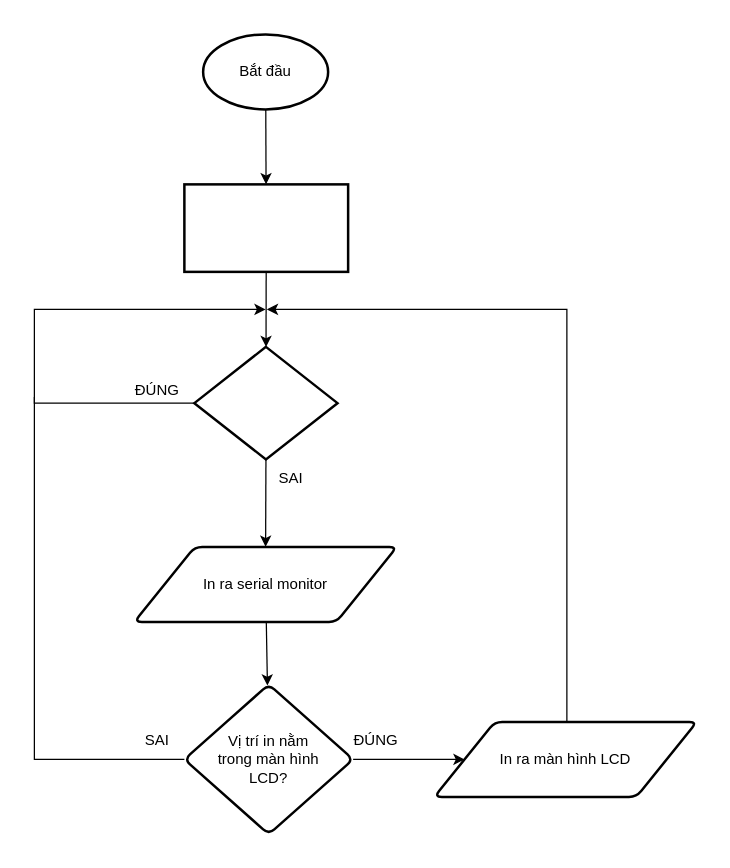
Image size: 730x868. Some labels were removed from this diagram. Each missing label, with the centre of its shape:
"Khởi tạo màn hình LCD" goes at point (265, 227).
"printQueue rỗng?" goes at point (265, 402).
